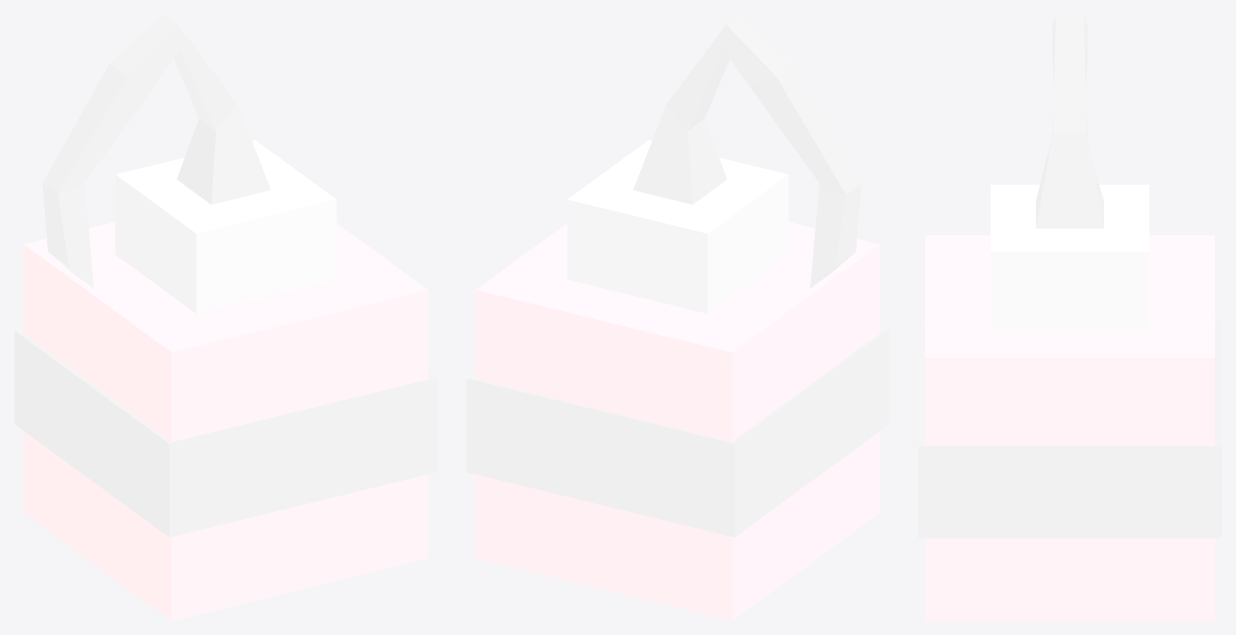
The model's file is bombes.gltf.
3 renders of one model, left to right at view 1: azimuth 30°, elevation 25°; view 2: azimuth 150°, elevation 25°; view 3: azimuth 270°, elevation 25°, orthographic. The views are drawn at different scales.
Parts seen in each view (by area): view 1: Cube; view 2: Cube; view 3: Cube.
Part boxes in pixels (box(x1,y1,x2,y2)): Cube: box(14, 14, 437, 620); Cube: box(466, 14, 889, 620); Cube: box(918, 14, 1221, 620).
Bounding box in the file's own units: 1.74 × 2.93 × 1.51.
